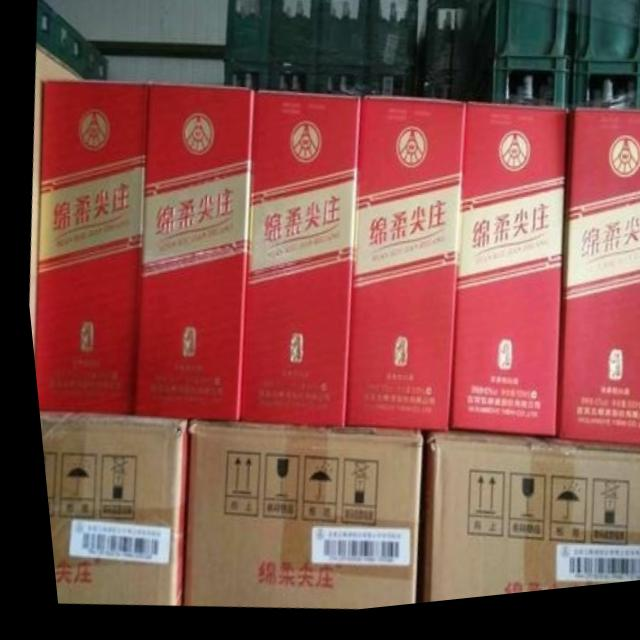box: (172, 423, 413, 614), (229, 95, 357, 433), (334, 104, 462, 440), (439, 113, 566, 448), (126, 84, 251, 422), (27, 80, 148, 415), (408, 442, 640, 611), (545, 121, 640, 456), (31, 411, 179, 606)
